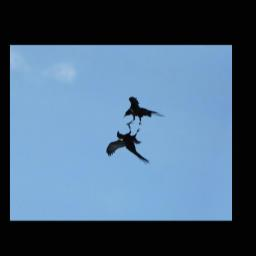Crow: (104, 119, 159, 167)
